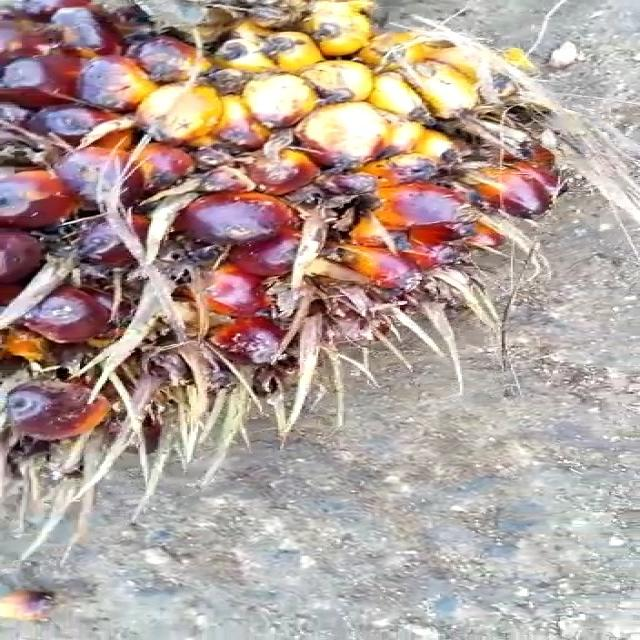palm oil: (0, 0, 578, 525)
